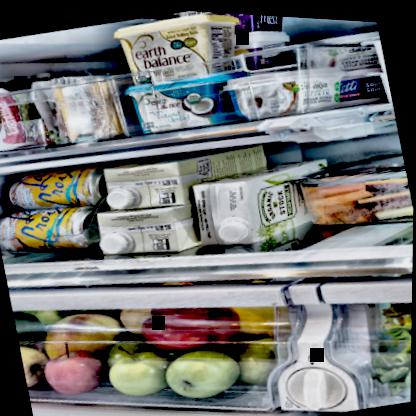apple: (166, 338, 243, 400), (106, 343, 170, 399), (44, 343, 107, 398), (20, 340, 48, 385)
cheese: (116, 5, 238, 89), (225, 55, 342, 124), (127, 64, 231, 137)
milk: (194, 151, 329, 247), (95, 193, 197, 262), (103, 151, 196, 214)
red_bell_pepper: (145, 291, 239, 356)
